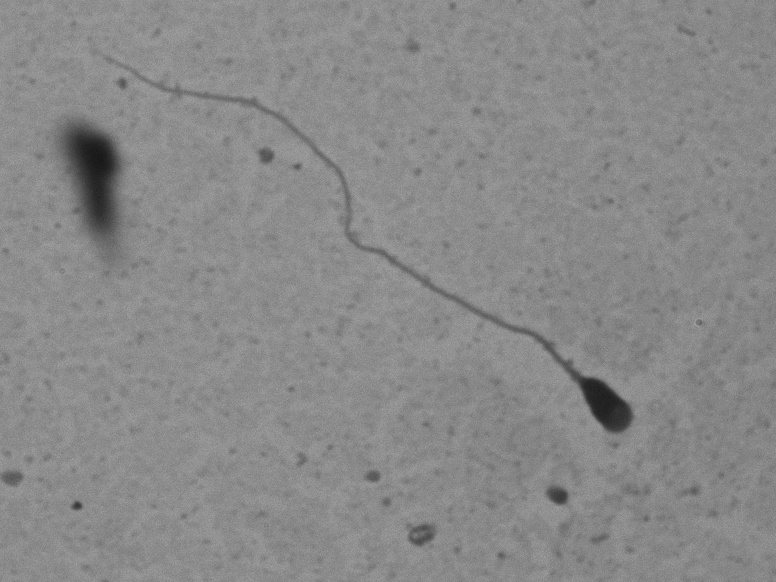Abnormal: (102, 35, 695, 483)
